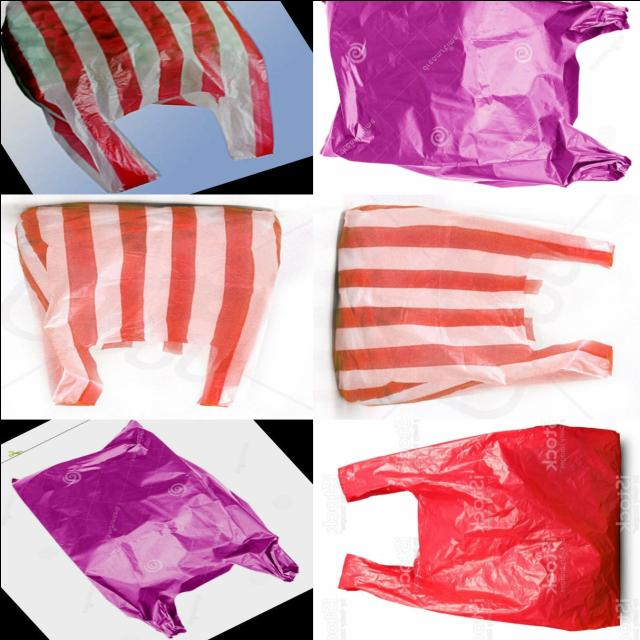plastik: (12, 420, 298, 637), (337, 425, 620, 631), (320, 0, 630, 186), (332, 206, 612, 405), (14, 202, 281, 406), (0, 0, 273, 191)
